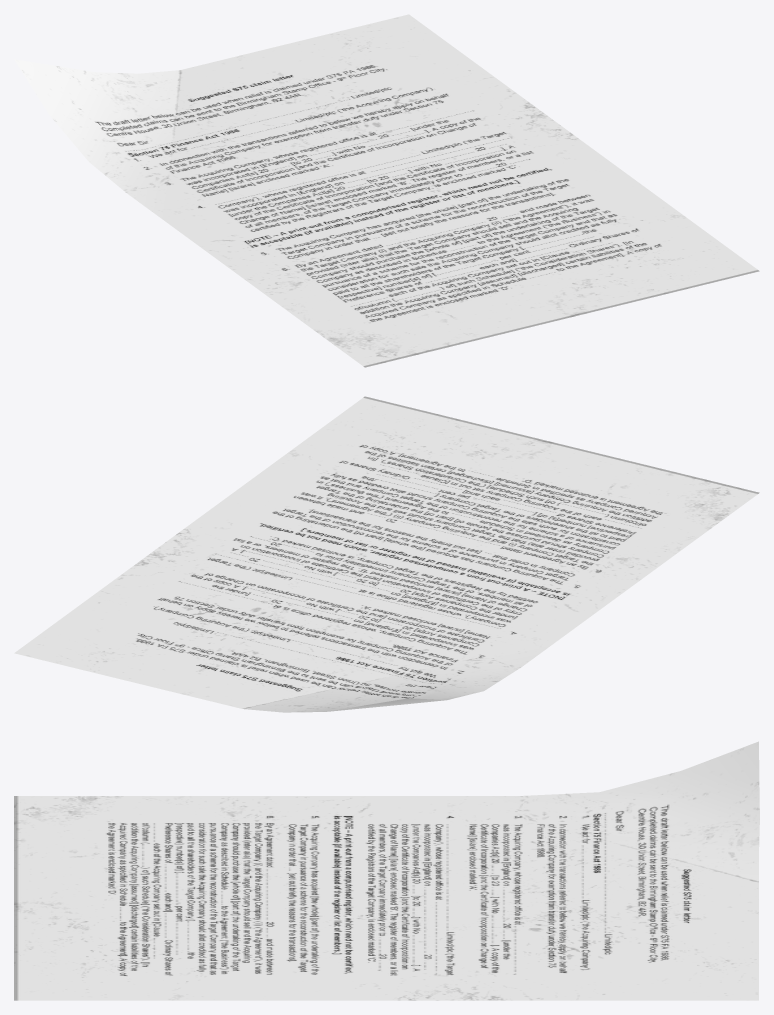
Rendered from paper.glb.
3 renders of one model, top to bottom at view 1: azimuth 30°, elevation 25°; view 2: azimuth 150°, elevation 25°; view 3: azimuth 270°, elevation 25°, orthographic. The views are drawn at different scales.
Parts seen in each view (by area): view 1: paper; view 2: paper; view 3: paper.
Part boxes in pixels (bbox=[...]): paper: bbox=[14, 14, 759, 367]; paper: bbox=[14, 396, 759, 712]; paper: bbox=[14, 741, 759, 1000].
Size of the model in its own units: 0.1955 by 0.0242 by 0.3001.
Materials: 1 (1 with a texture image).
